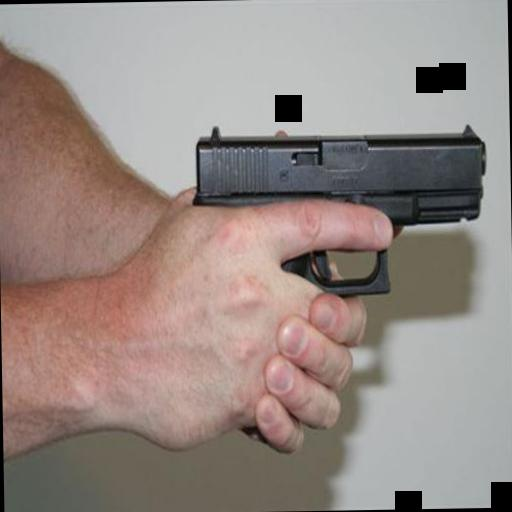Handgun: (192, 115, 490, 448)
